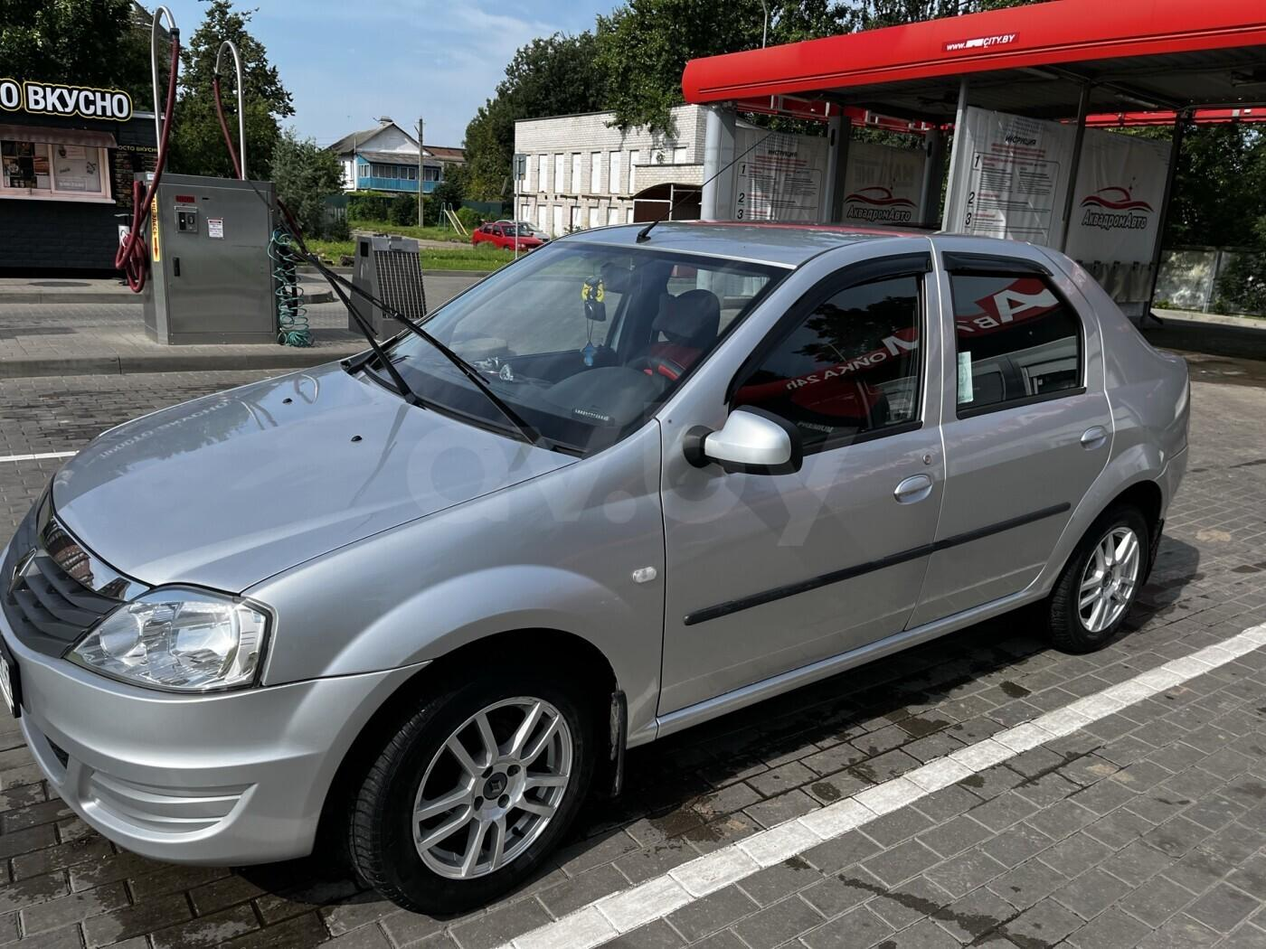Logan_2008-2015: (0, 212, 1196, 941)
